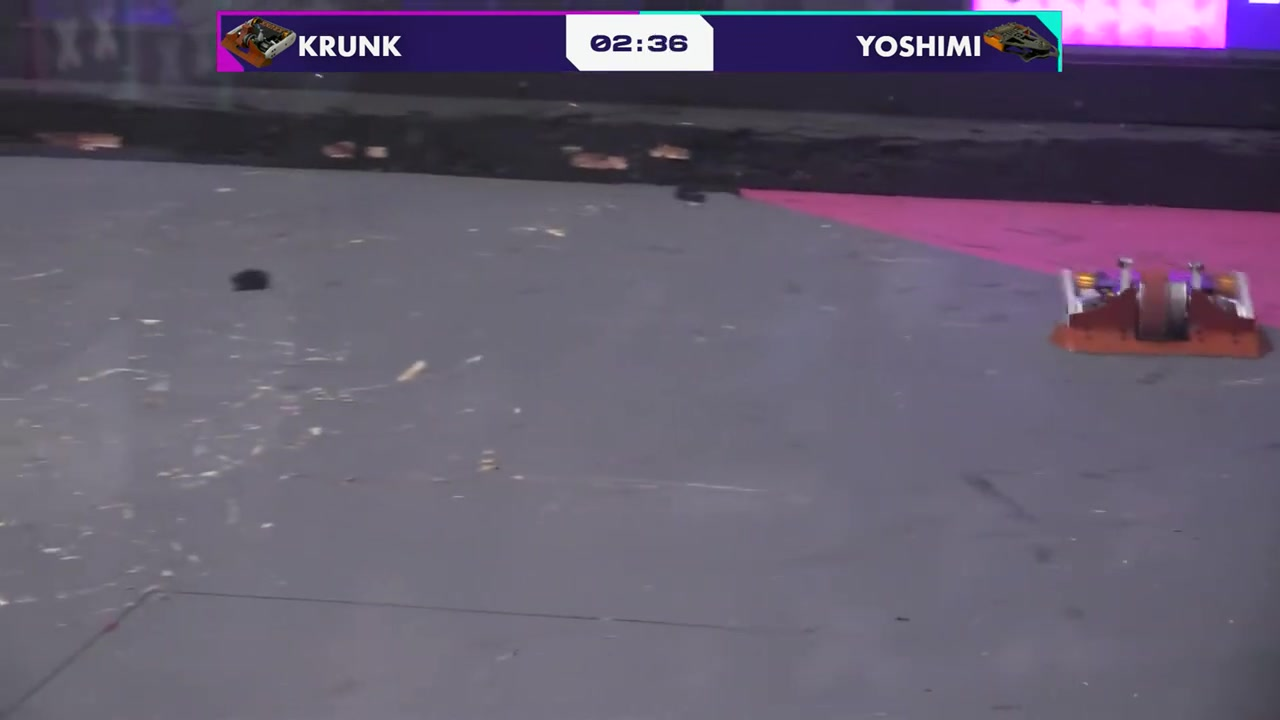belt: (674, 181, 745, 205)
combatbot: (1052, 278, 1272, 357)
debris: (234, 270, 272, 289)
